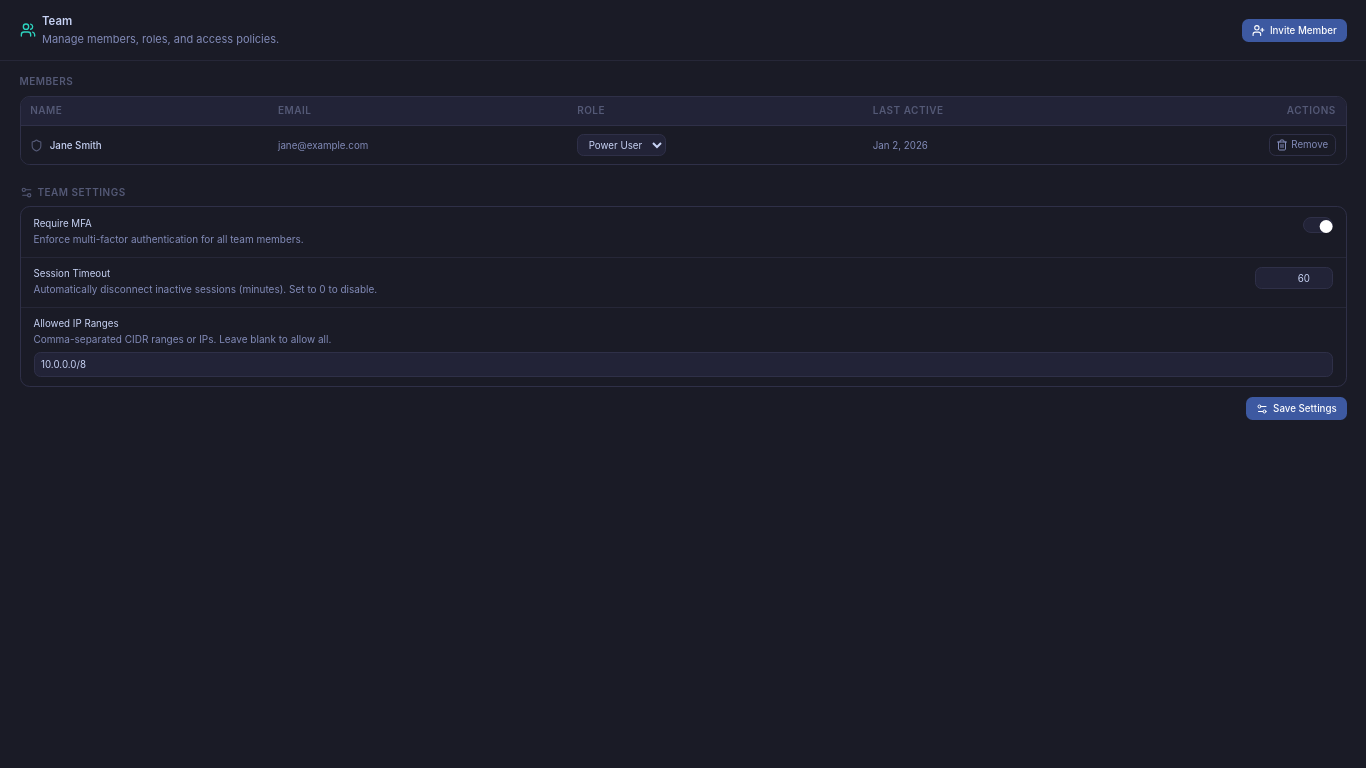
Test: TeamPanel › removes a member via the two-step confirm
This screenshot has width=1366, height=768.
Check: the text "Jane Smith" is shown, box [50,139,102,152]
Click the button "Remove" at (1302, 145), box [1268,134,1336,156]
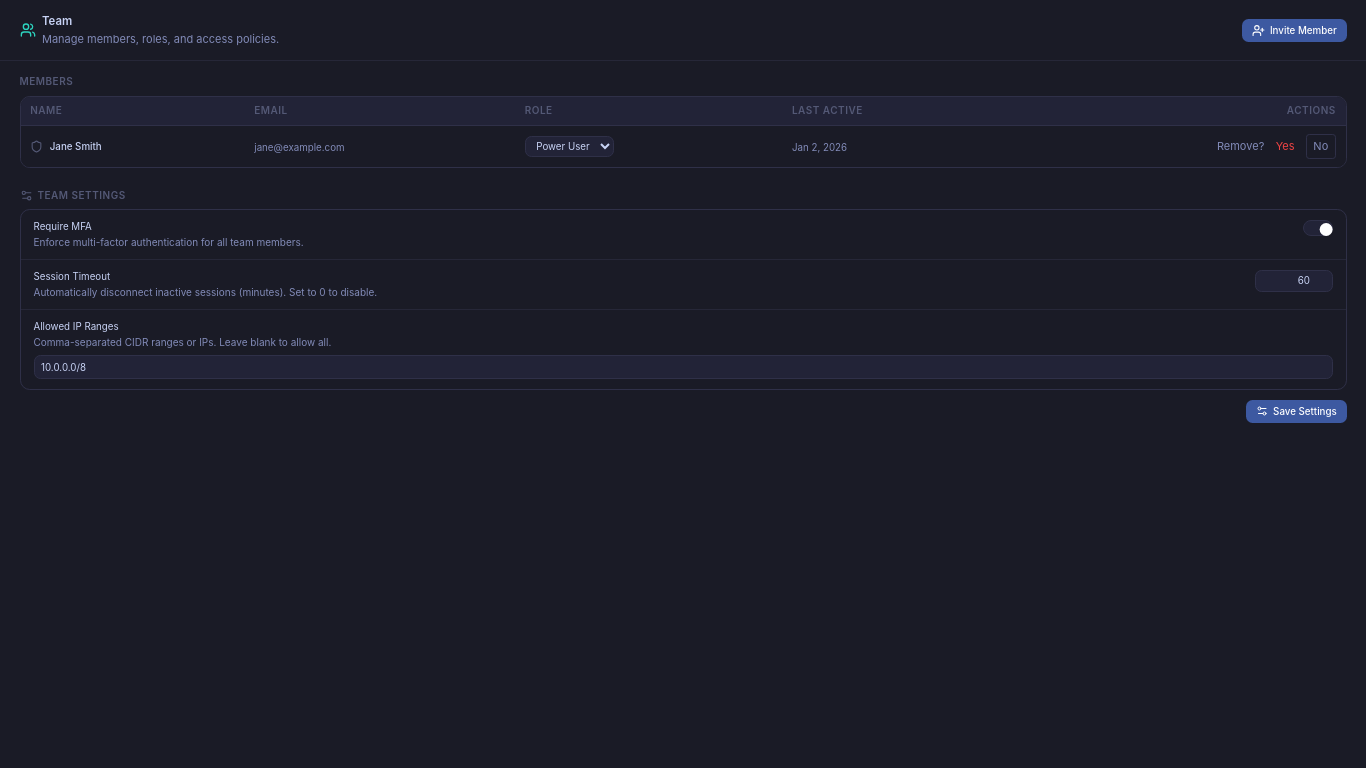
Check: the text "Remove?" is shown, box [1217,138,1264,155]
Click the button "Yes" at (1285, 146), box [1269,135,1301,158]
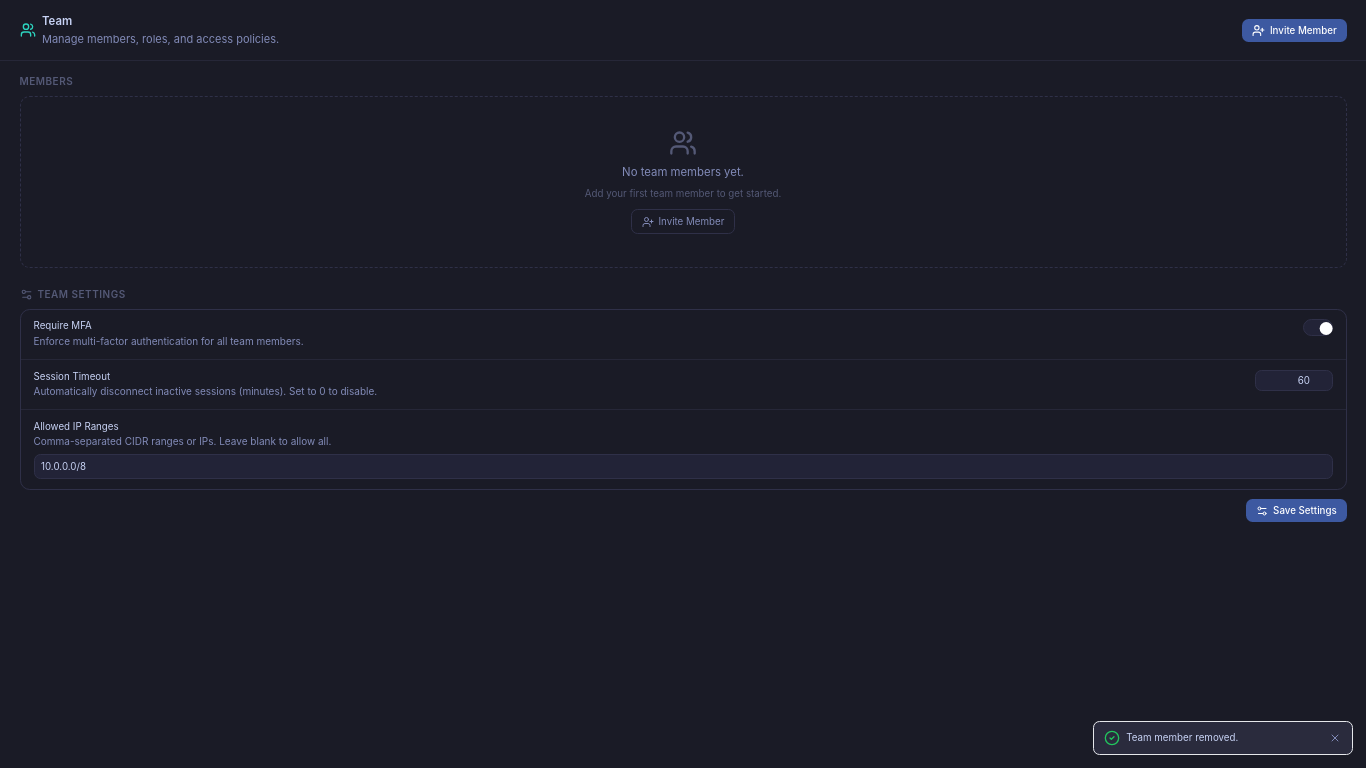
Check: the text "Jane Smith" is gone
